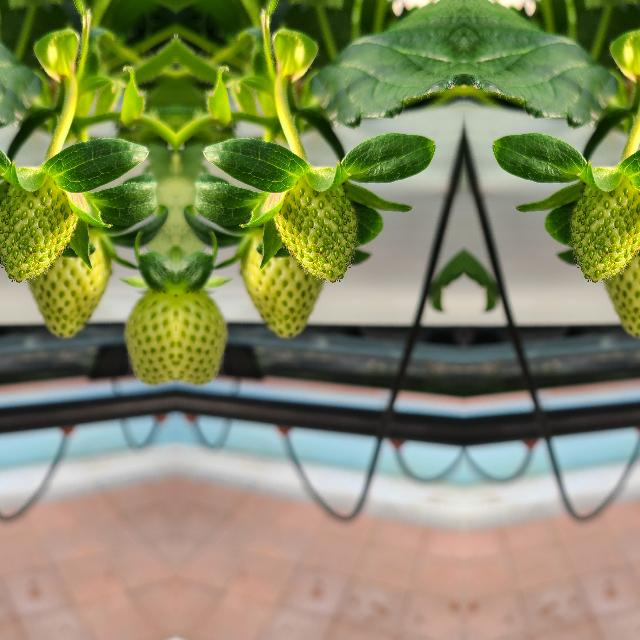Health_25: (238, 227, 324, 341), (27, 227, 112, 341), (272, 176, 354, 282), (0, 176, 78, 281), (571, 176, 640, 281), (174, 274, 226, 384), (124, 274, 176, 384), (602, 227, 640, 341)
